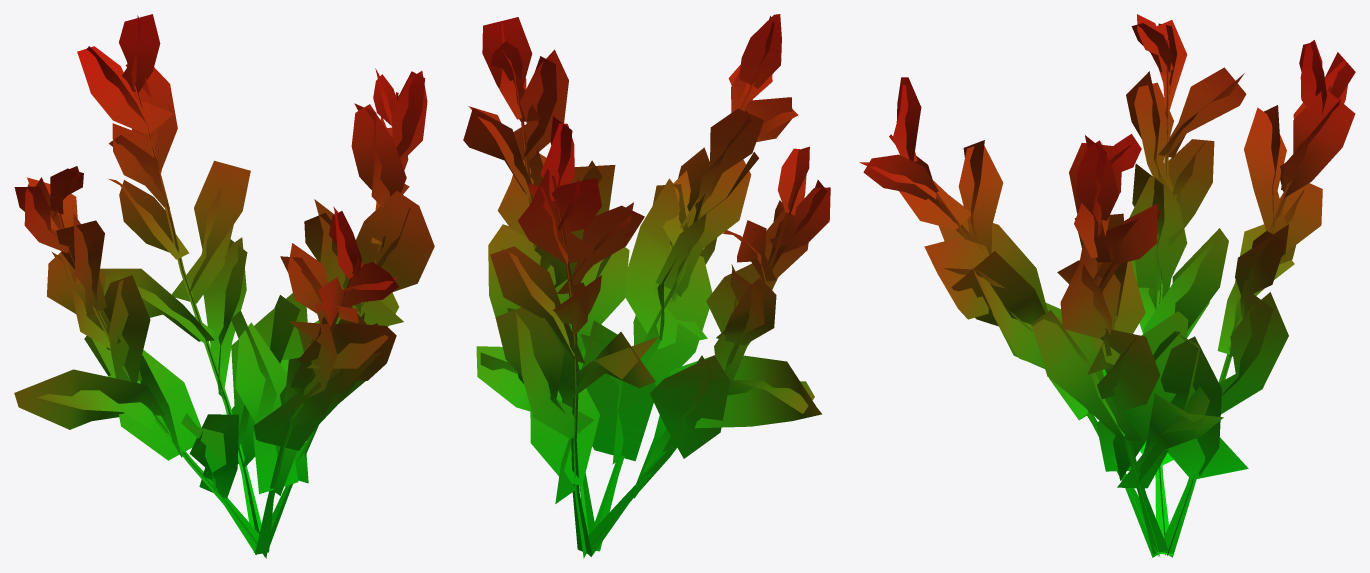
Rendered from Chamomile_LOD1_Var8_ujcnejvja.fbx.
3 renders of one model, left to right at view 1: azimuth 30°, elevation 25°; view 2: azimuth 150°, elevation 25°; view 3: azimuth 270°, elevation 25°, orthographic.
Parts seen in each view (by area): view 1: _uj7b_Var8_LOD1; view 2: _uj7b_Var8_LOD1; view 3: _uj7b_Var8_LOD1.
Part boxes in pixels (x1,y1,x2,y2): _uj7b_Var8_LOD1: [14, 14, 434, 558]; _uj7b_Var8_LOD1: [463, 14, 830, 558]; _uj7b_Var8_LOD1: [859, 14, 1355, 557].
Size of the model in its own units: 22.37 by 28.15 by 25.63.
